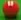red: (0, 0, 21, 20)
